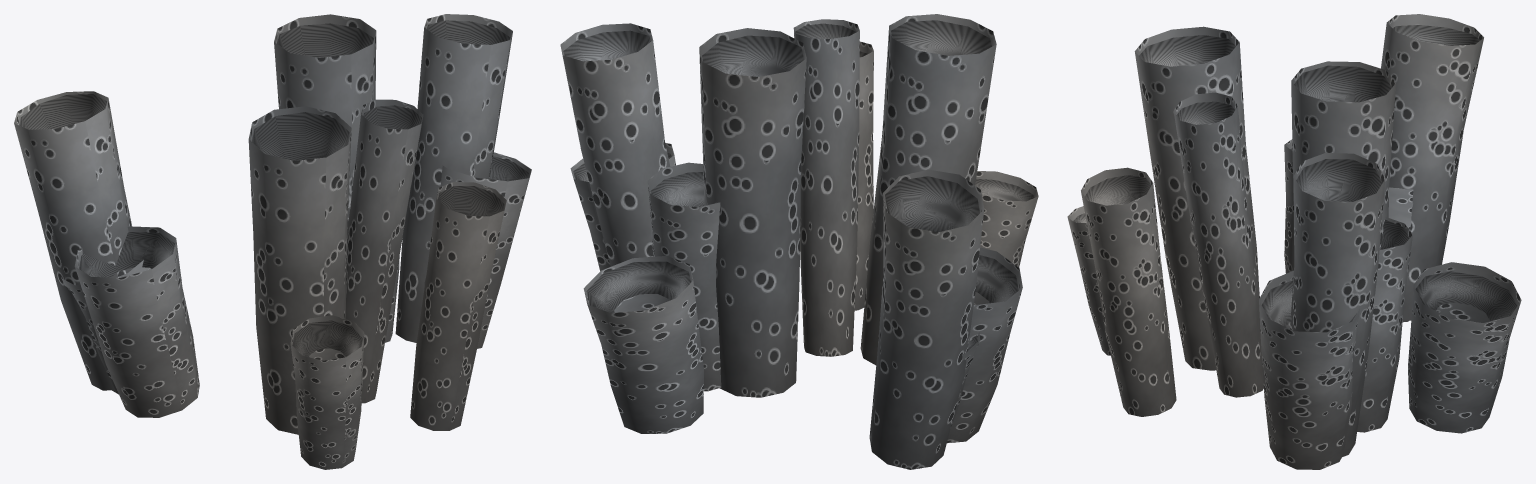
The model's file is sea_tubes_l0.gltf.
3 views of the same model, side by side, from view 1: azimuth 30°, elevation 25°; view 2: azimuth 150°, elevation 25°; view 3: azimuth 270°, elevation 25° (orthographic). The views are drawn at different scales.
Parts seen in each view (by area): view 1: sea_tubes_l0; view 2: sea_tubes_l0; view 3: sea_tubes_l0.
Boxes of the visible parts, x1,y1,x2,y2 form: sea_tubes_l0: (14,14,531,469); sea_tubes_l0: (560,14,1038,469); sea_tubes_l0: (1067,14,1521,469).
Bounding box in the file's own units: 1.59 × 1.12 × 1.41.
1 material, 1 textured.
